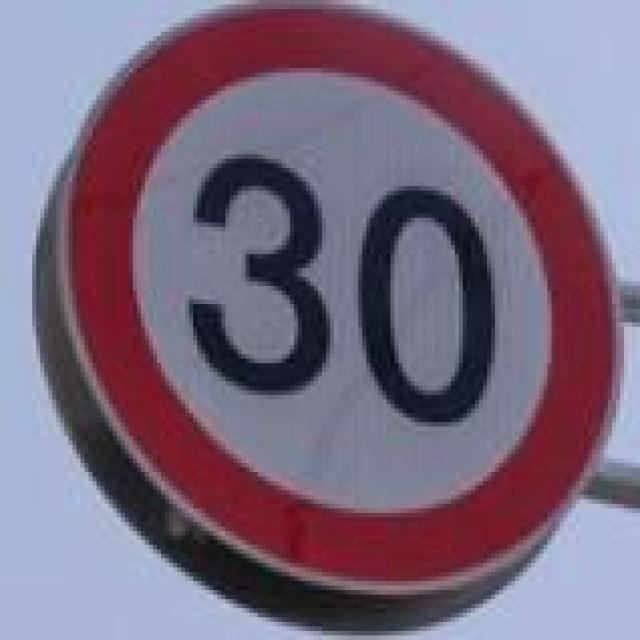speed_limit_30: (68, 0, 612, 586)
